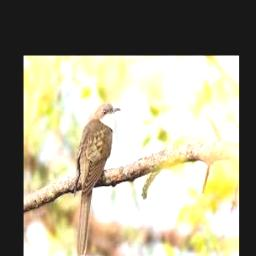Cuckoo: (75, 103, 122, 256)
